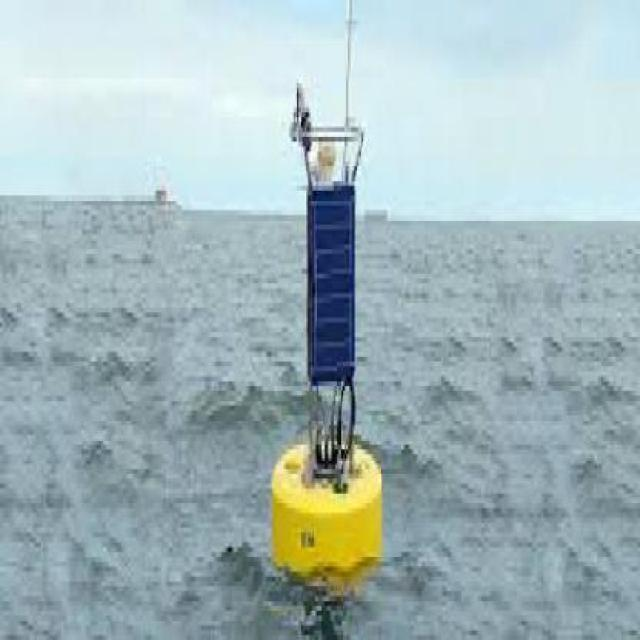buoy: (269, 40, 408, 587)
